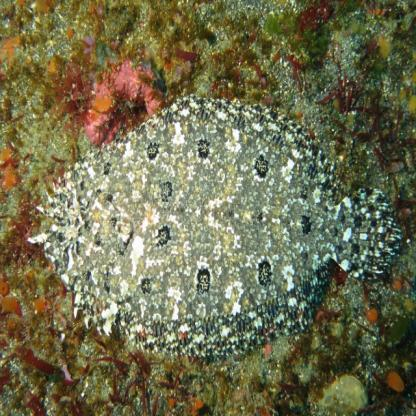flounder: (28, 91, 397, 367)
